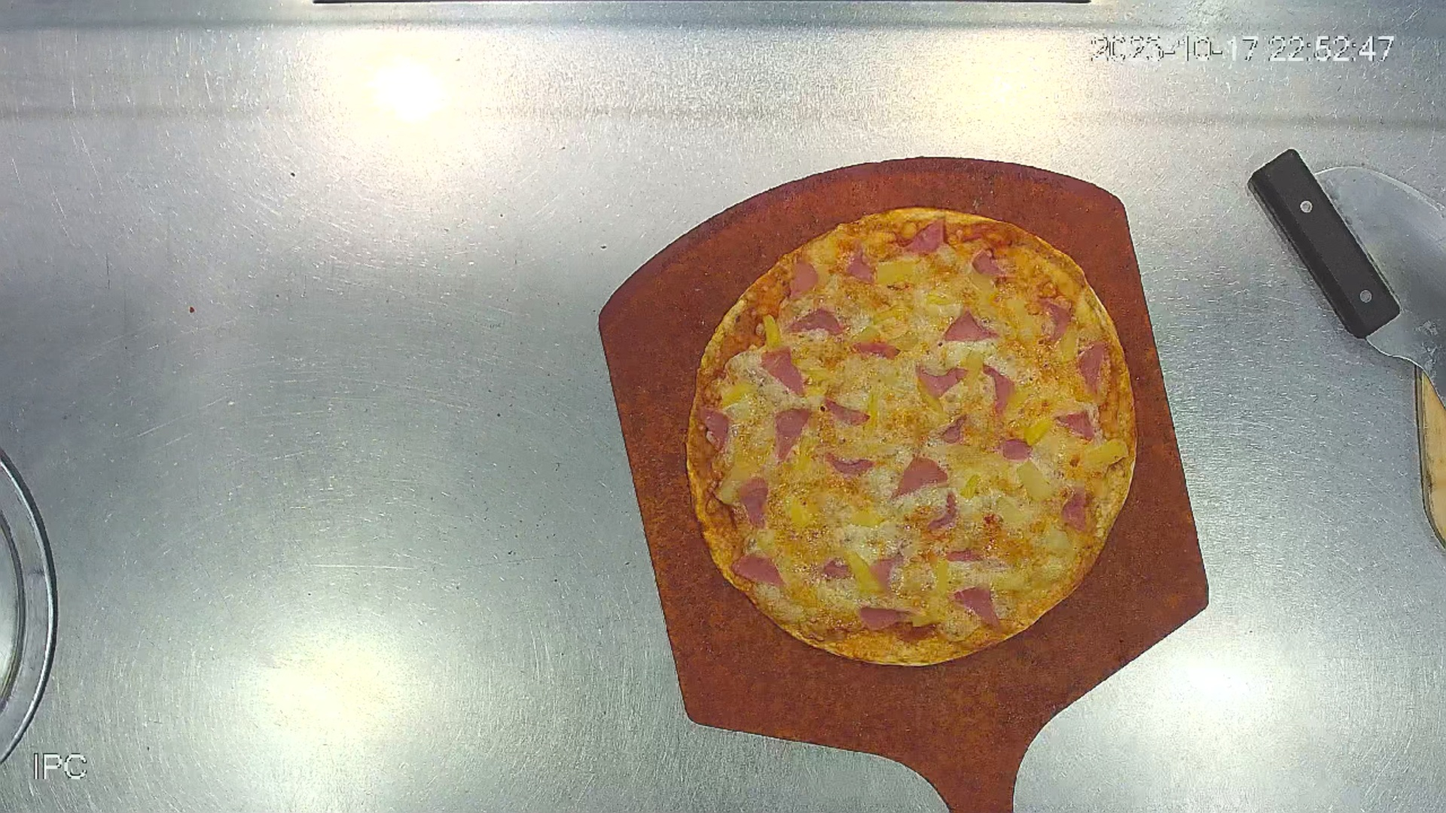hawaiian: (678, 198, 1143, 671)
